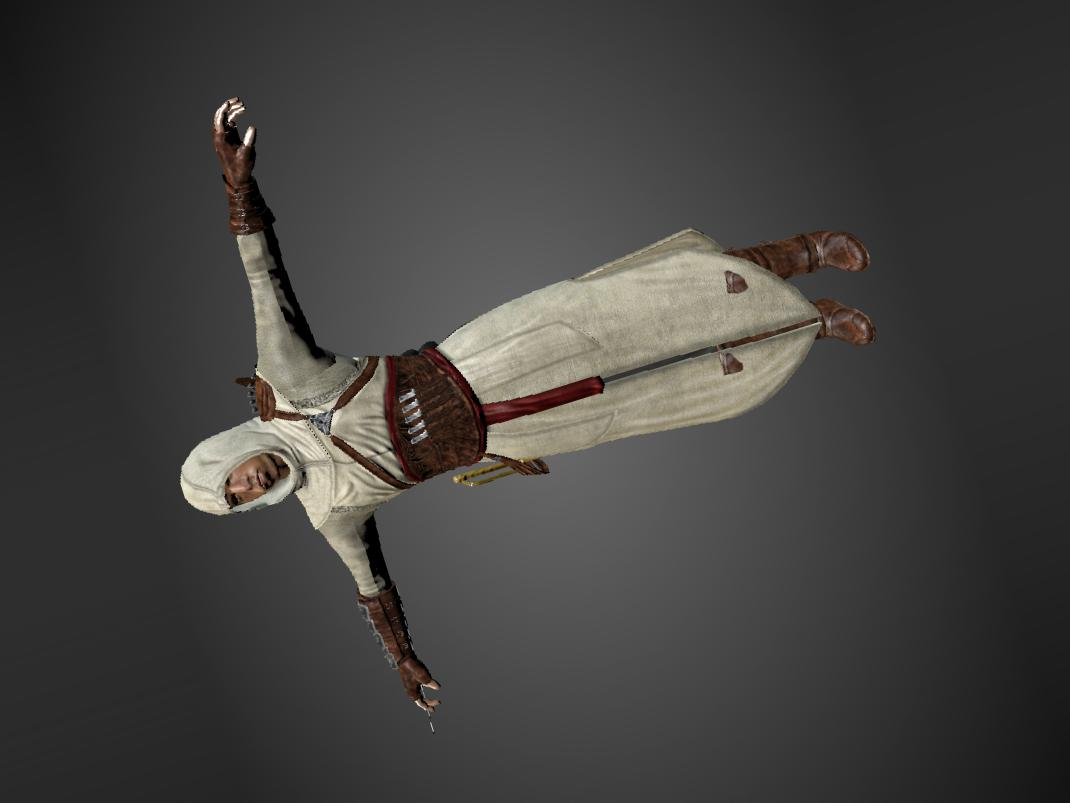clip: (714, 263, 759, 302), (718, 349, 748, 377)
